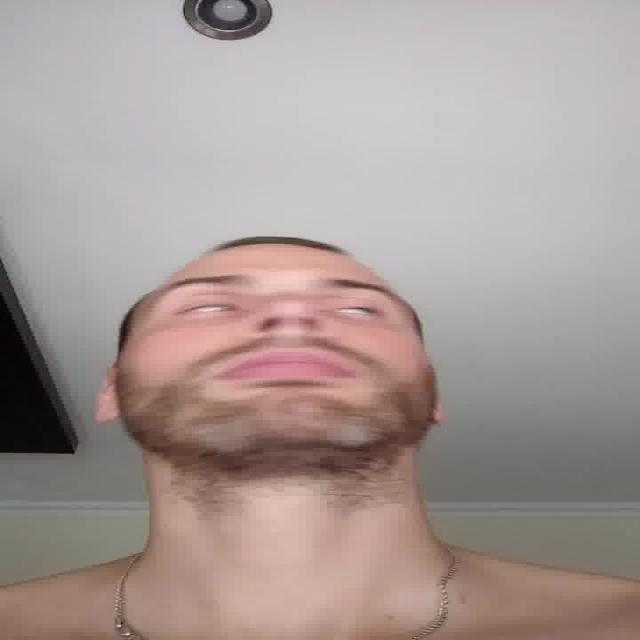earlobe: (97, 368, 121, 423)
